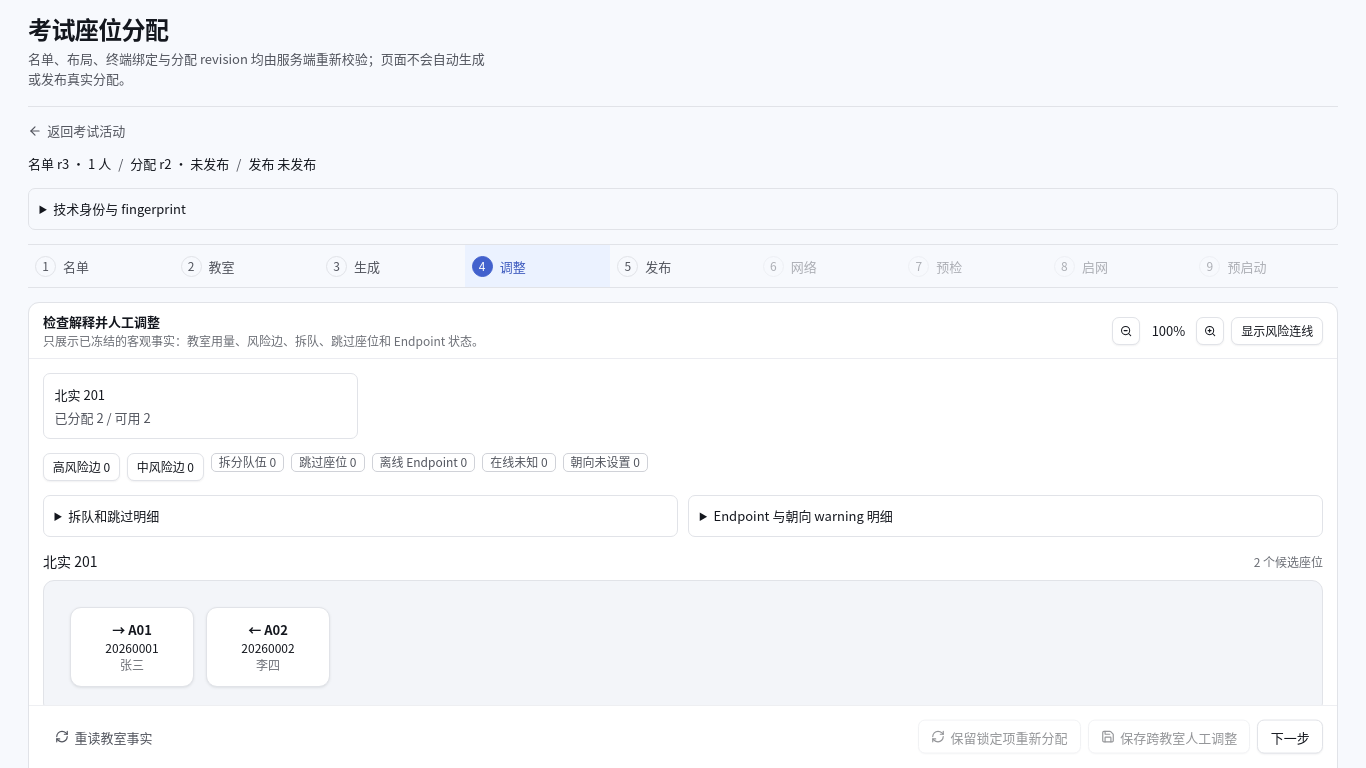
p2.5 exam seat assignment workspace › keeps an older v2 assignment read-only when a newer v2 plan is already canonical
Expected: the button "保留锁定项重新分配" is disabled, top-left (918, 720), bottom-right (1081, 754)
Click the button with aria-label "发布分配": (683, 266) top-left (610, 245), bottom-right (756, 287)
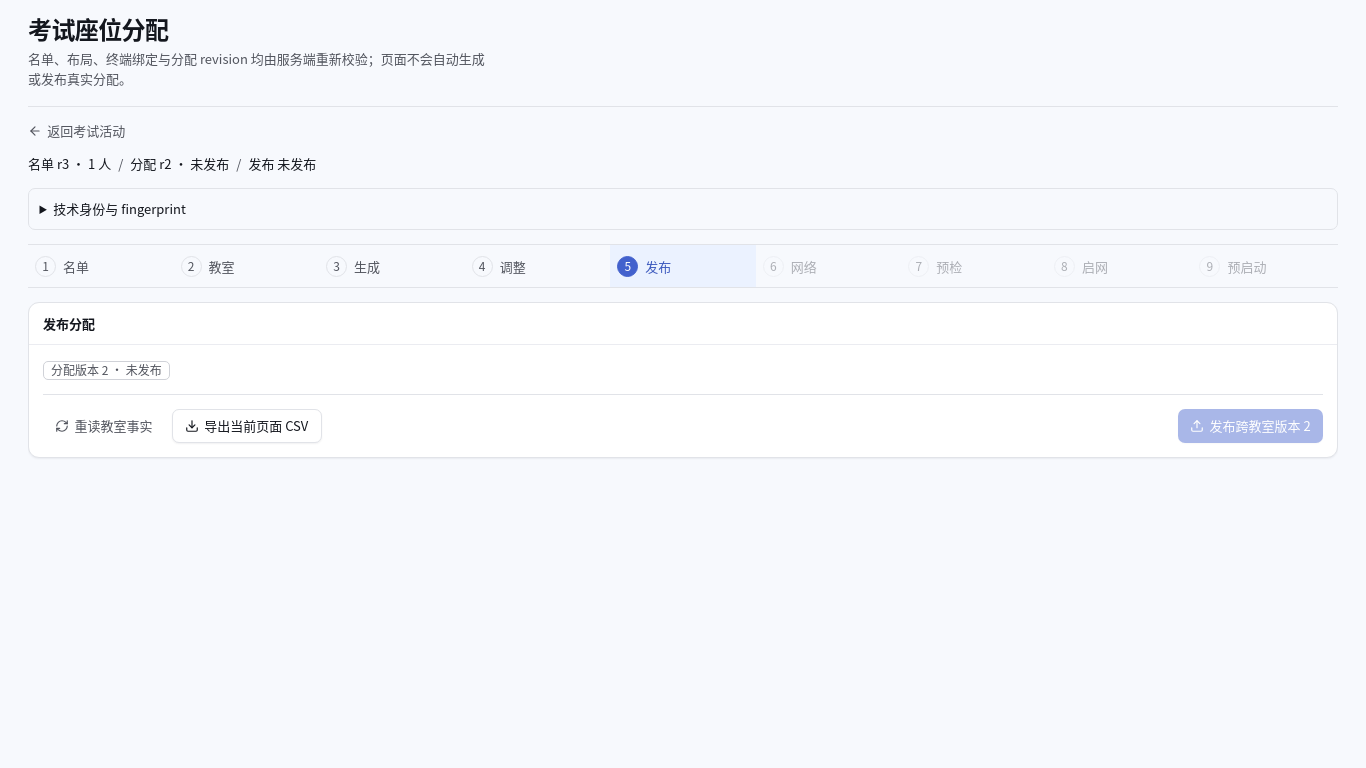
Now the button "发布跨教室版本 2" is disabled, box top-left (1178, 409), bottom-right (1323, 443)
Click the button with aria-label "生成分配": (392, 266) top-left (319, 245), bottom-right (465, 287)
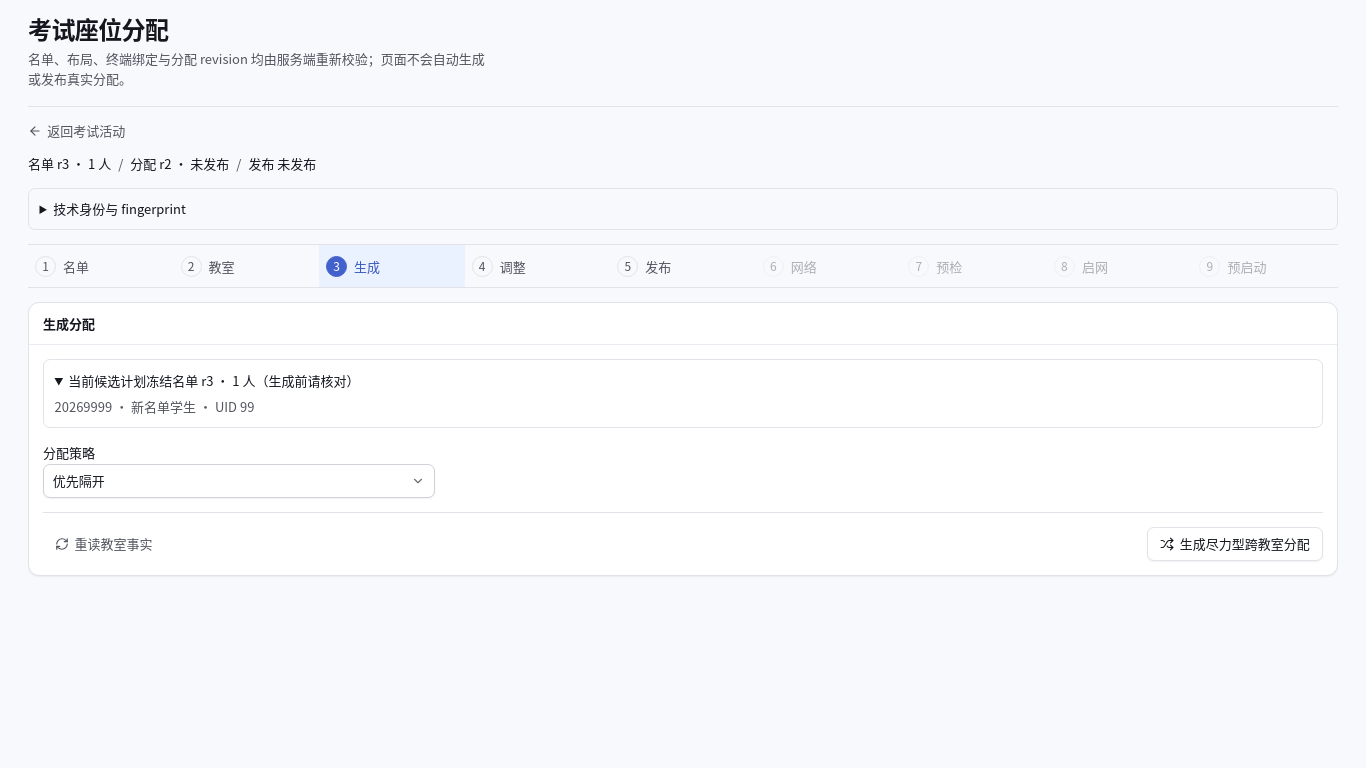
Now the heading "当前候选计划冻结名单 r3 · 1 人（生成前请核对）" is shown, box top-left (68, 371), bottom-right (360, 390)
Click the button with aria-label "检查调整": (538, 266) top-left (465, 245), bottom-right (610, 287)
(page scrolled)
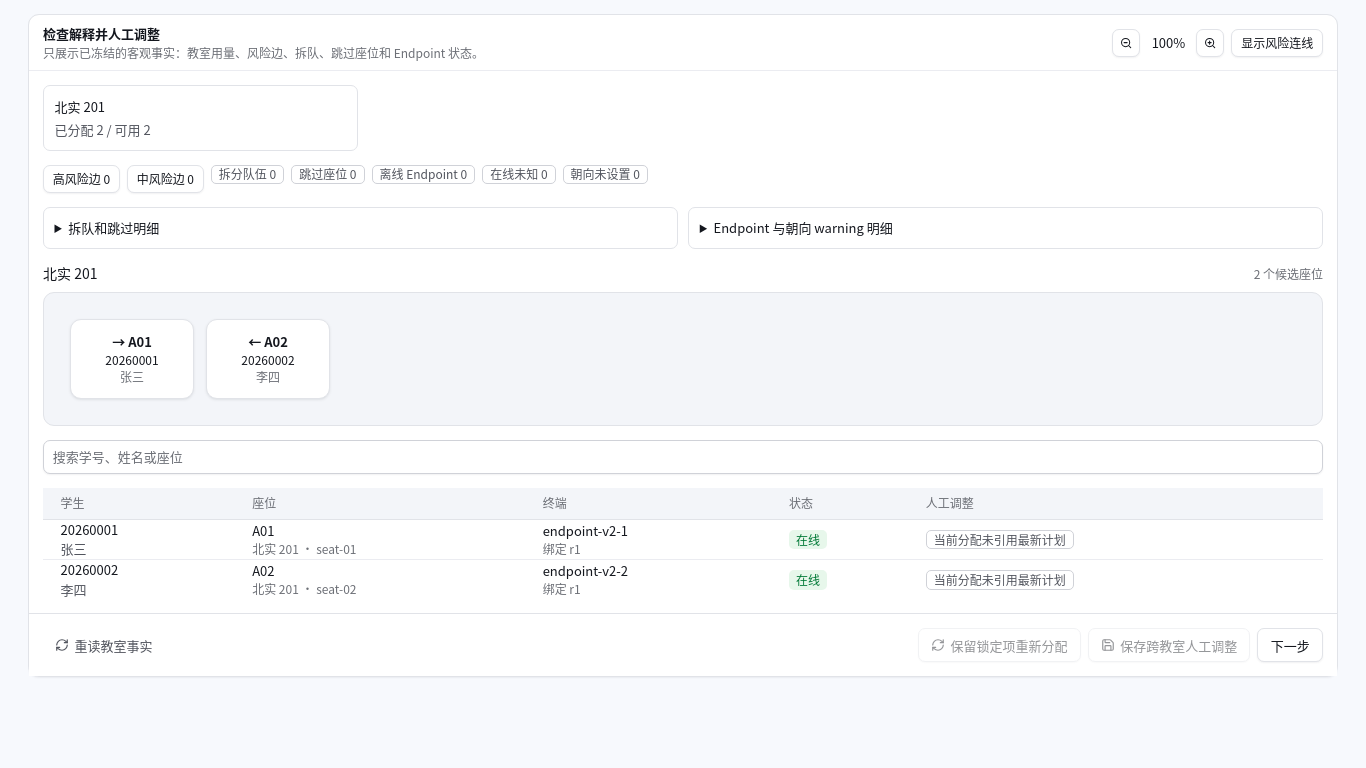
Now the text "张三" in the row of "seat-01" is shown, box top-left (60, 539), bottom-right (86, 558)
Now the text "新名单学生" is gone
